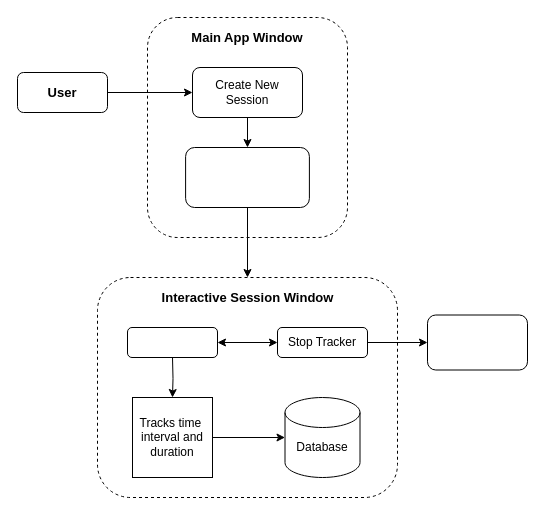
Image size: 545x515. Some labels were removed from this diagram. The shapes that lost their labels are listed below. From the top down, each one's centre as x and y in pixels, then its label:
At pixel 247 177: "Session Tab with different attributes".
At pixel 172 342: "Start Tracker".
At pixel 477 342: "Update User Profile".
